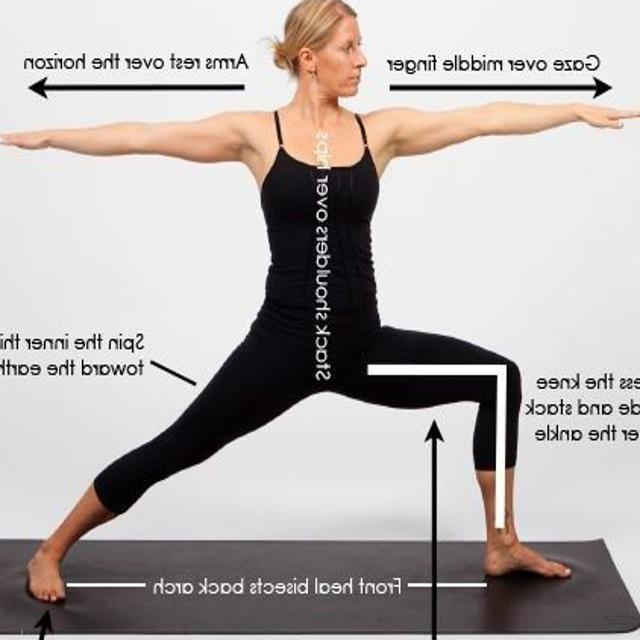Warrior_II: (4, 4, 636, 602)
